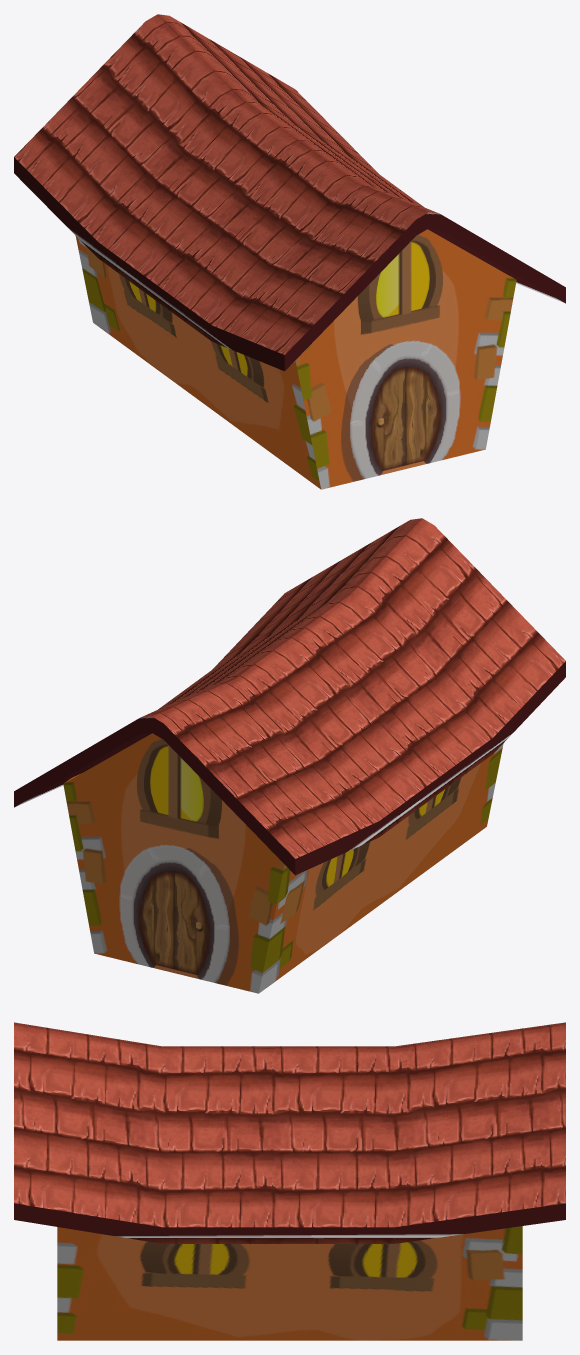
The picture shows the model from 3 angles, top to bottom: view 1: azimuth 30°, elevation 25°; view 2: azimuth 150°, elevation 25°; view 3: azimuth 270°, elevation 25°; orthographic projection.
Parts seen in each view (by area): view 1: final:admin_20170511_1627:polySurface45; view 2: final:admin_20170511_1627:polySurface45; view 3: final:admin_20170511_1627:polySurface45.
Part boxes in pixels (box(x1,y1,x2,y2)): final:admin_20170511_1627:polySurface45: box(14, 14, 565, 489); final:admin_20170511_1627:polySurface45: box(14, 518, 565, 993); final:admin_20170511_1627:polySurface45: box(14, 1022, 565, 1340).
Bounding box in the file's own units: 1414 × 1307 × 2358.
